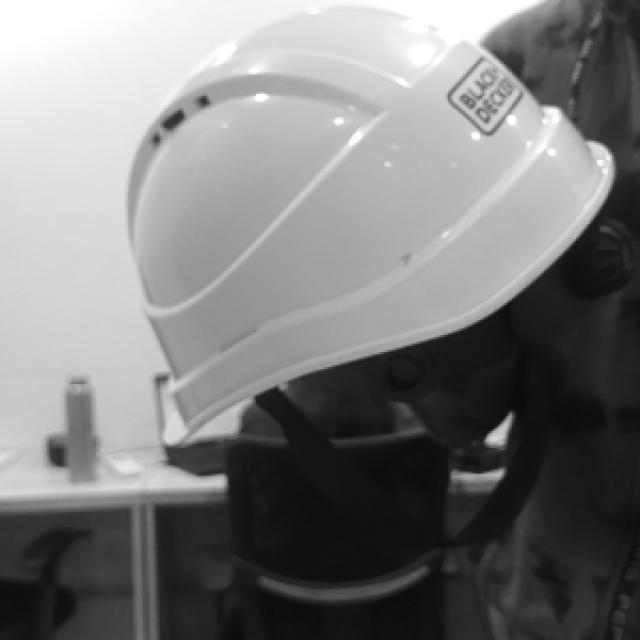safety_helmet: (127, 5, 615, 449)
